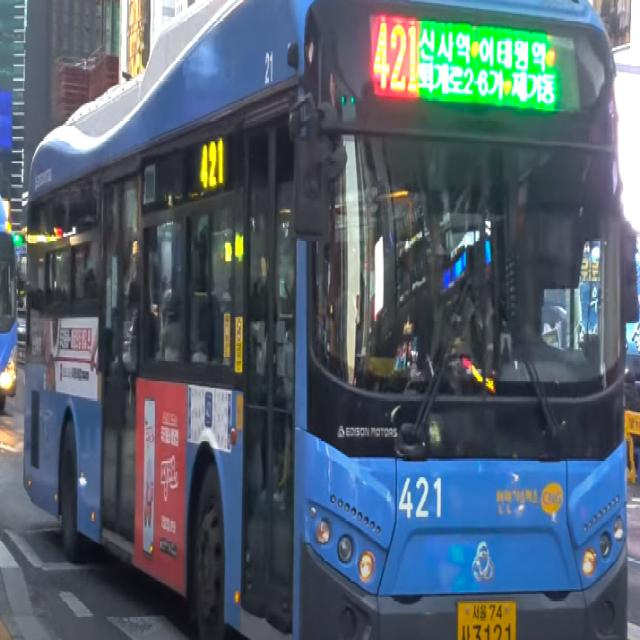bus-number: (373, 20, 418, 94)
